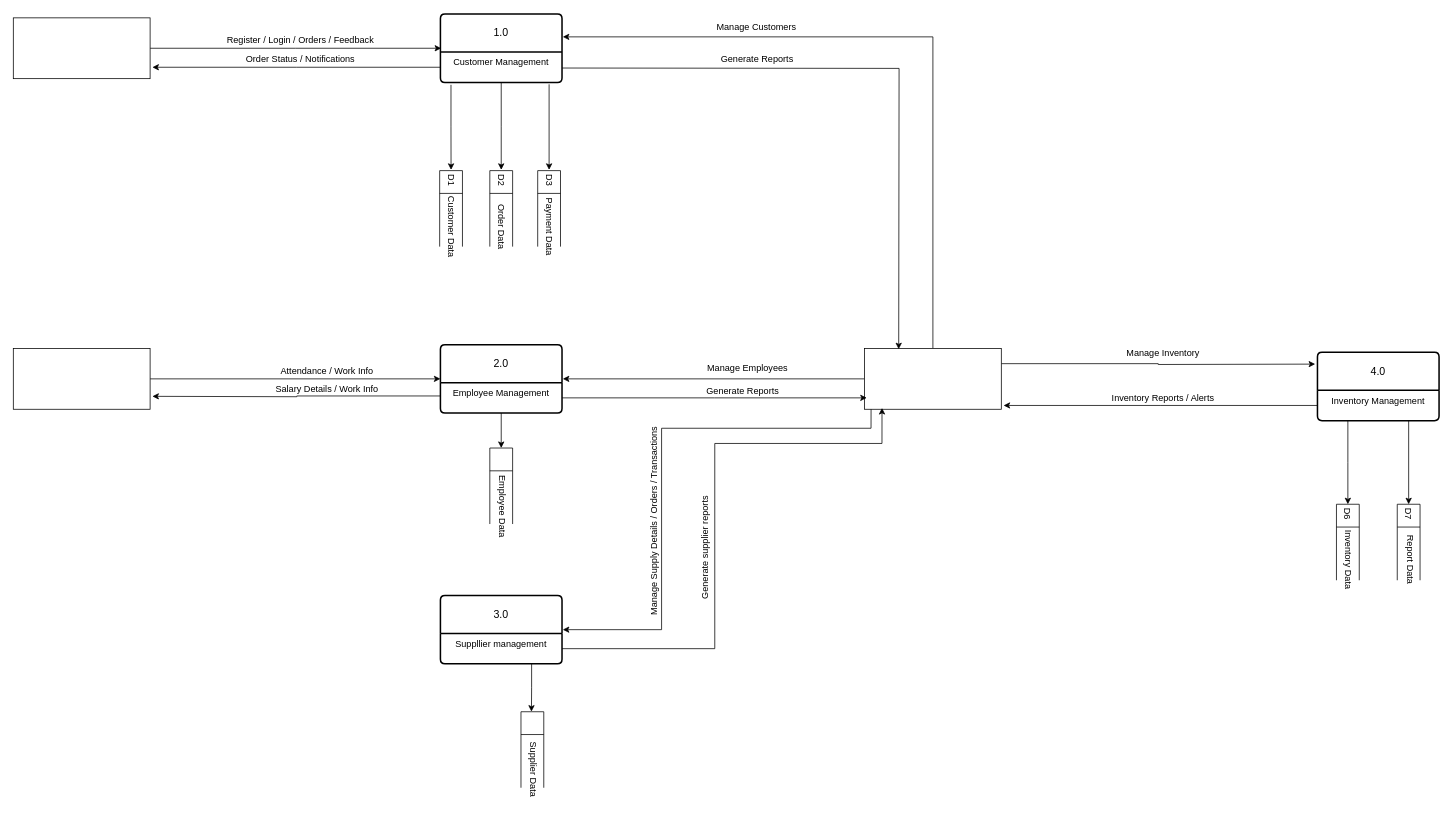
This 1453x820 diagram has some shape labels left out. The box of each missing label's shape, as (x1, y1, x2, y2) in pixels:
Admin: (864, 348, 1001, 409)
Customers (Students/ lecturers/ Guests): (13, 17, 150, 79)
D4: (489, 447, 513, 524)
D5: (520, 711, 544, 788)
Employee: (13, 348, 150, 409)
